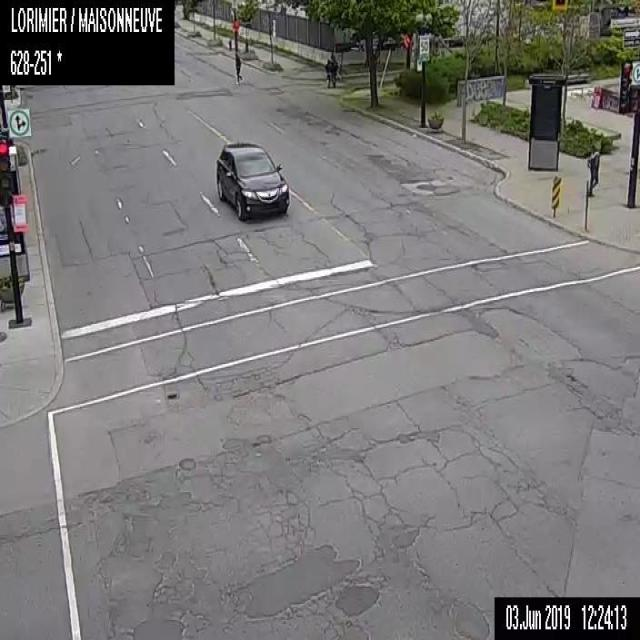pedestrian: (586, 143, 600, 196), (234, 49, 242, 84), (330, 52, 337, 88), (324, 57, 332, 87)
vehicle: (215, 139, 290, 220)
